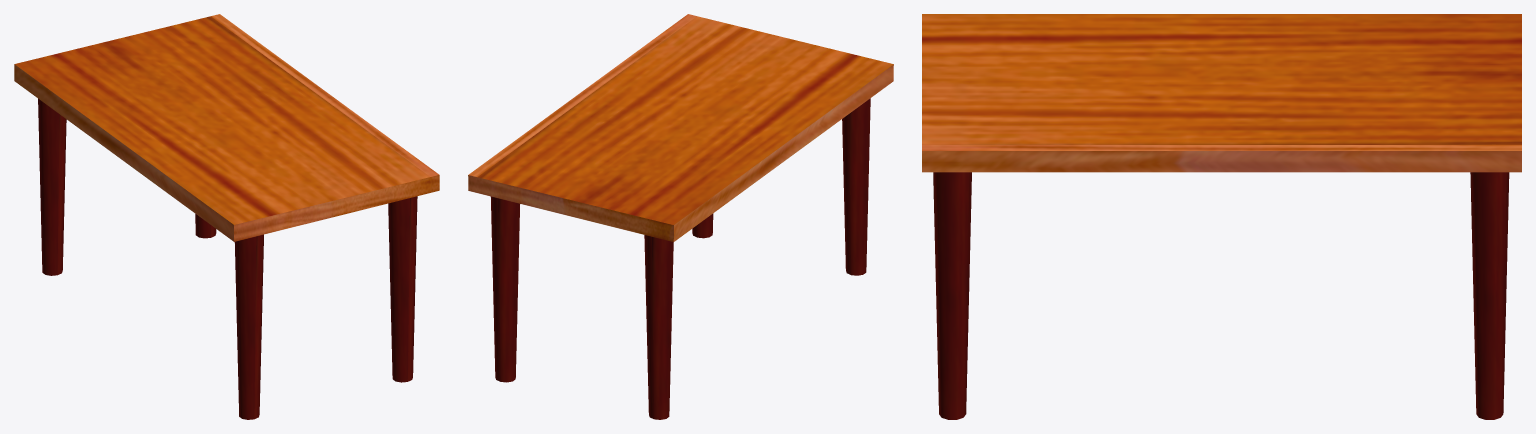
The model's file is Table 1.fbx.
3 views of the same model, side by side, from view 1: azimuth 30°, elevation 25°; view 2: azimuth 150°, elevation 25°; view 3: azimuth 270°, elevation 25° (orthographic). The views are drawn at different scales.
Visible parts, largest first — view 1: Cube.017; view 2: Cube.017; view 3: Cube.017.
Boxes of the visible parts, bbox=[...] form: Cube.017: bbox=[14, 14, 439, 419]; Cube.017: bbox=[468, 14, 893, 419]; Cube.017: bbox=[922, 14, 1521, 419].
Size of the model in its own units: 118 by 113 by 219.
Materials: 1 (1 with a texture image).
